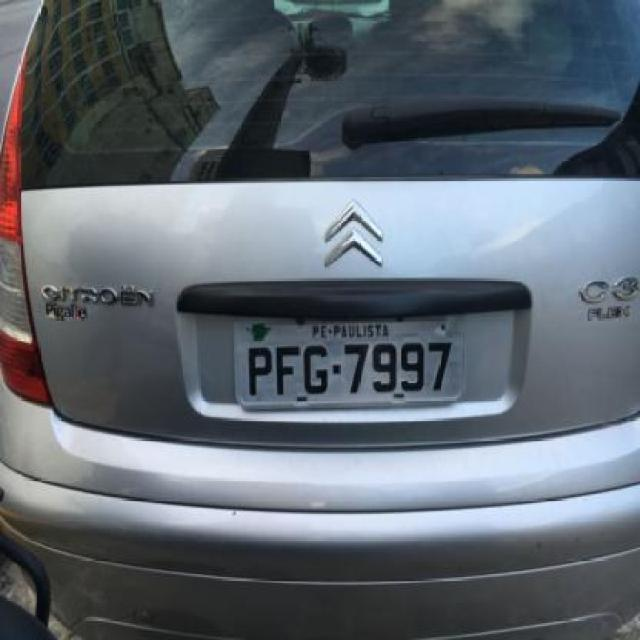old_plate: (227, 307, 472, 421)
